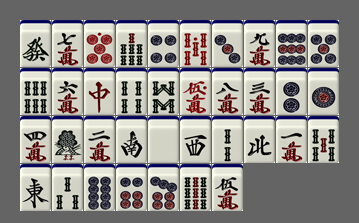0m: (180, 68, 211, 115)
0p: (84, 20, 115, 67)
0s: (180, 20, 211, 67)
1m: (276, 116, 307, 163)
1p: (308, 68, 339, 115)
1s: (52, 116, 83, 163)
1z: (20, 164, 51, 211)
2m: (84, 116, 115, 163)
2p: (276, 68, 307, 115)
2s: (212, 116, 243, 163)
2z: (116, 116, 147, 163)
3m: (244, 68, 275, 115)
3p: (212, 20, 243, 67)
3s: (52, 164, 83, 211)
3z: (180, 116, 211, 163)
4m: (20, 116, 51, 163)
4p: (148, 20, 179, 67)
4s: (116, 68, 147, 115)
4z: (244, 116, 275, 163)
5m: (212, 164, 243, 211)
5p: (308, 20, 339, 67)
5s: (308, 116, 339, 163)
5z: (148, 116, 179, 163)
6m: (52, 68, 83, 115)
6p: (116, 164, 147, 211)
6s: (20, 68, 51, 115)
6z: (20, 20, 51, 67)
7m: (52, 20, 83, 67)
7p: (148, 164, 179, 211)
7s: (116, 20, 147, 67)
7z: (84, 68, 115, 115)
8m: (212, 68, 243, 115)
8p: (84, 164, 115, 211)
8s: (148, 68, 179, 115)
9m: (244, 20, 275, 67)
9p: (276, 20, 307, 67)
9s: (180, 164, 211, 211)
